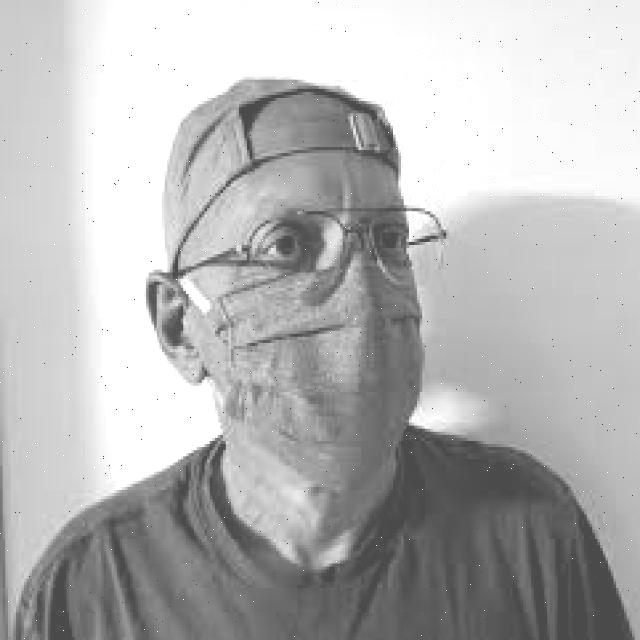fake: (210, 266, 430, 495)
real: (214, 156, 430, 495)
